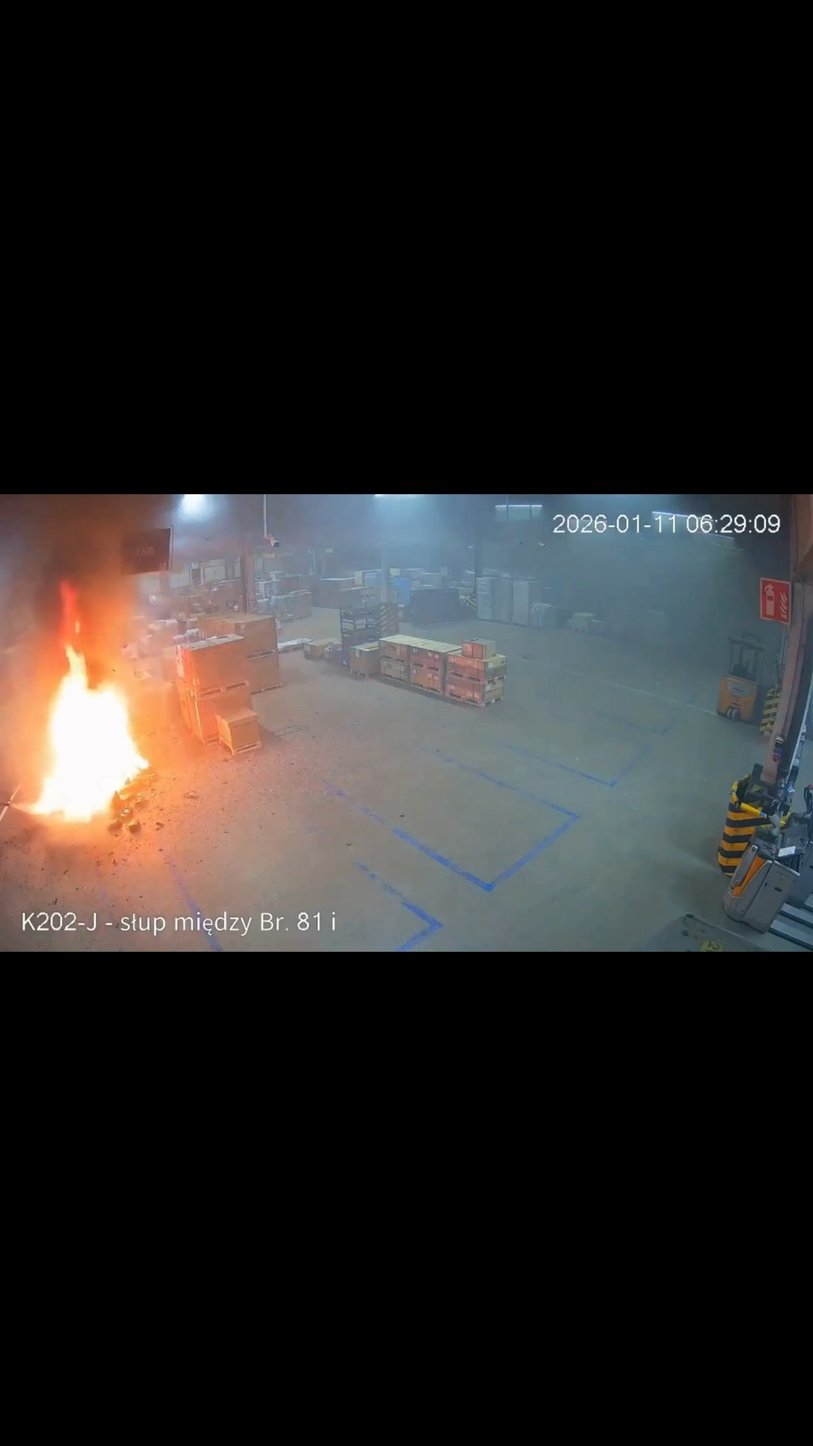fire: (30, 611, 183, 845)
